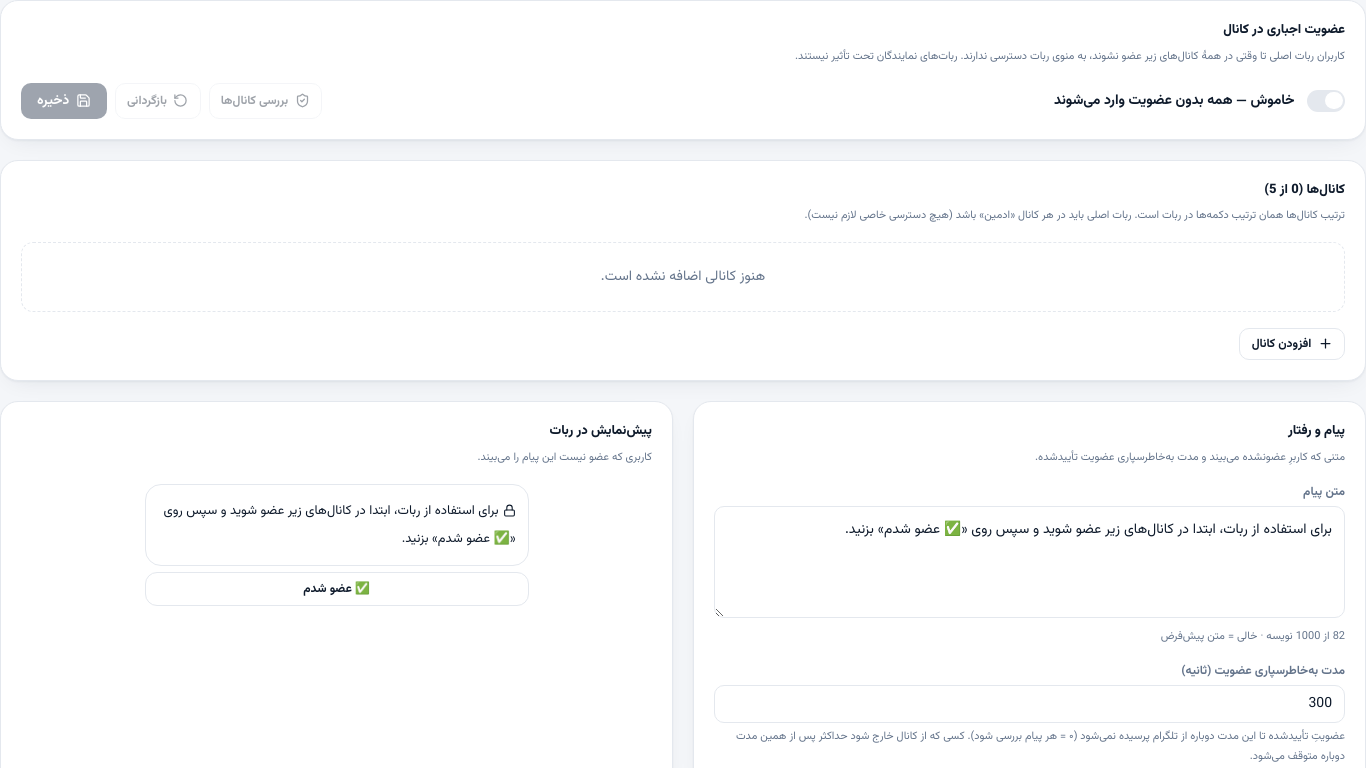
admin channel join (عضویت اجباری کانال) › adds a channel, previews the join screen, checks with Telegram and saves
The image size is (1366, 768).
Expected: the heading "عضویت اجباری در کانال" is shown, [1223,20,1345,40]
Expected: the button "ذخیره" is disabled, [21,82,107,119]
Click the switch named "فعال‌سازی عضویت اجباری" at (1326, 101), box [1307,90,1345,112]
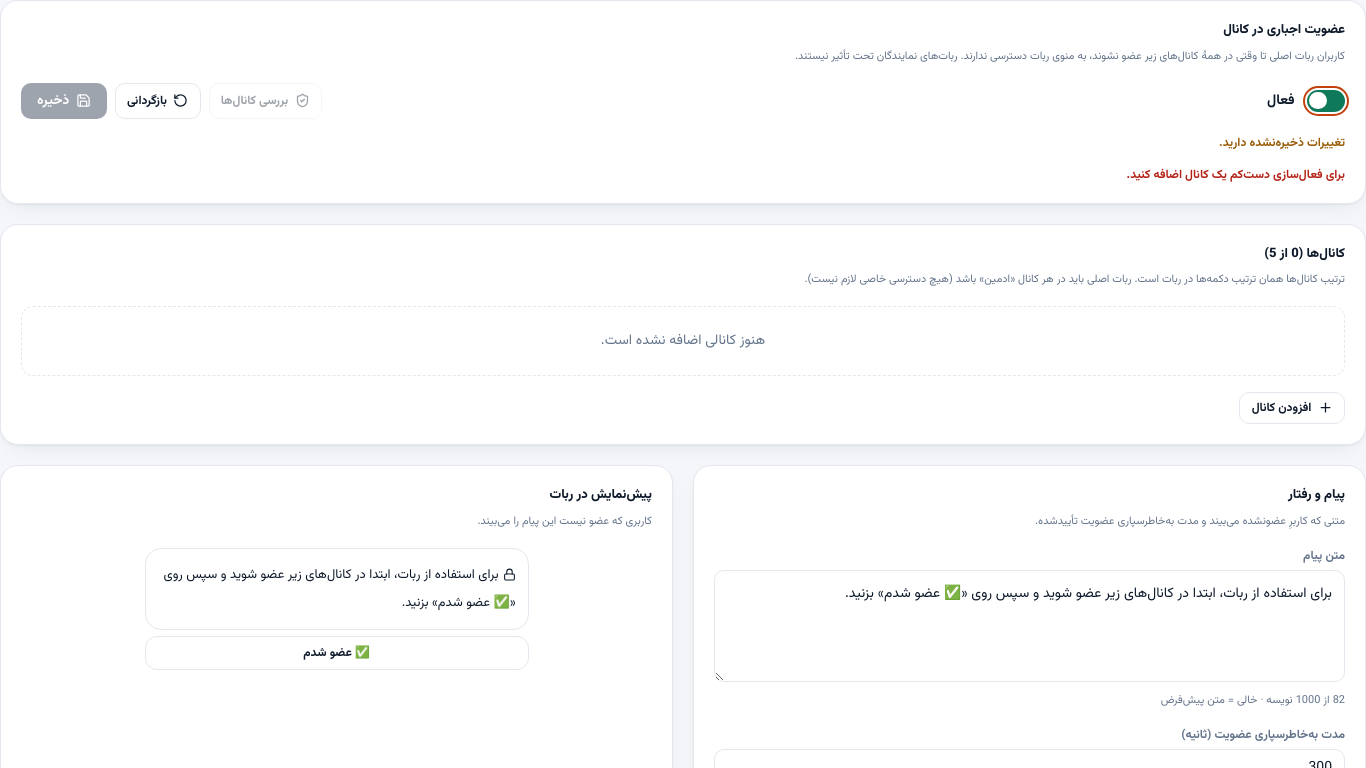
Expected: the button "ذخیره" is disabled, [21,82,107,119]
Expected: the text "برای فعال‌سازی دست‌کم یک کانال اضافه کنید." is shown, [1127,166,1345,184]
Click the button "افزودن کانال" at (1292, 408), box [1240,392,1345,424]
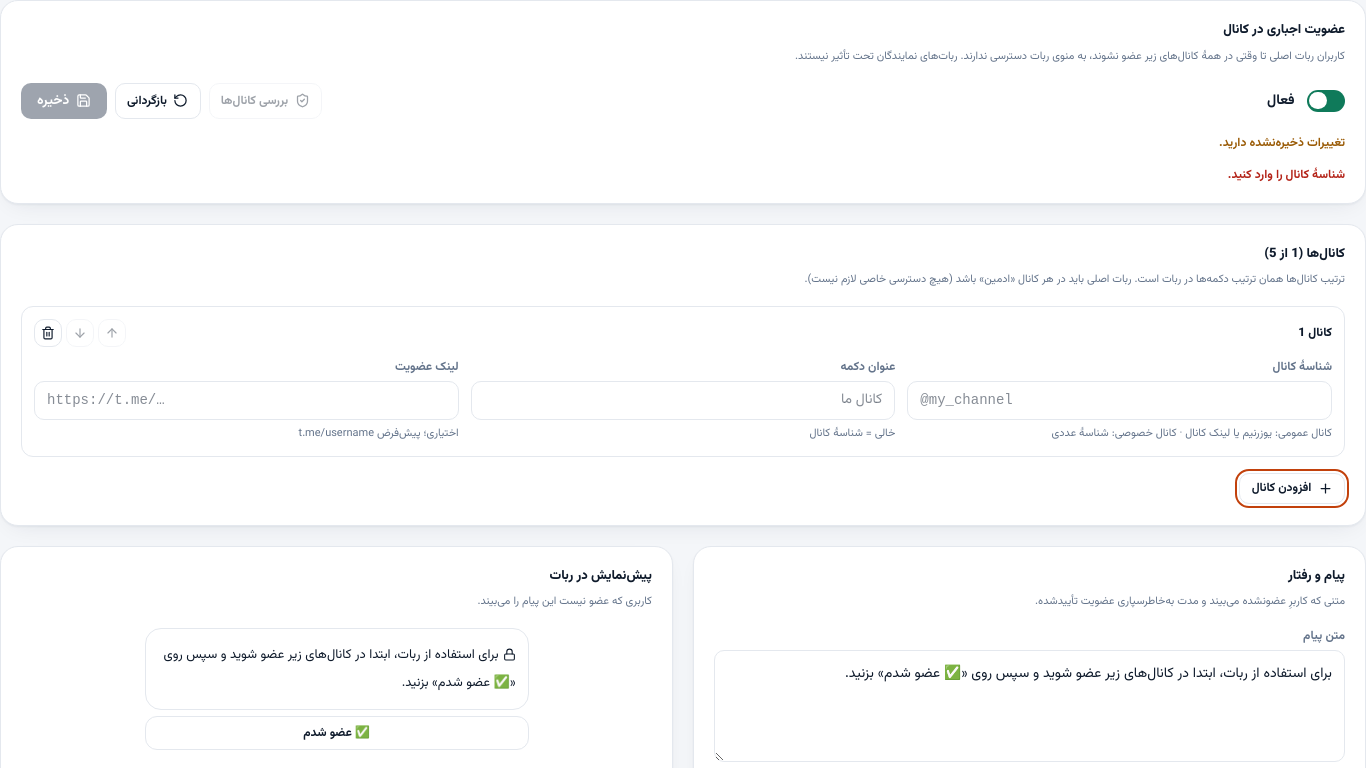
Type "melorin_news" into the field with placeholder "@my_channel" at (1120, 401), box [907,381,1332,420]
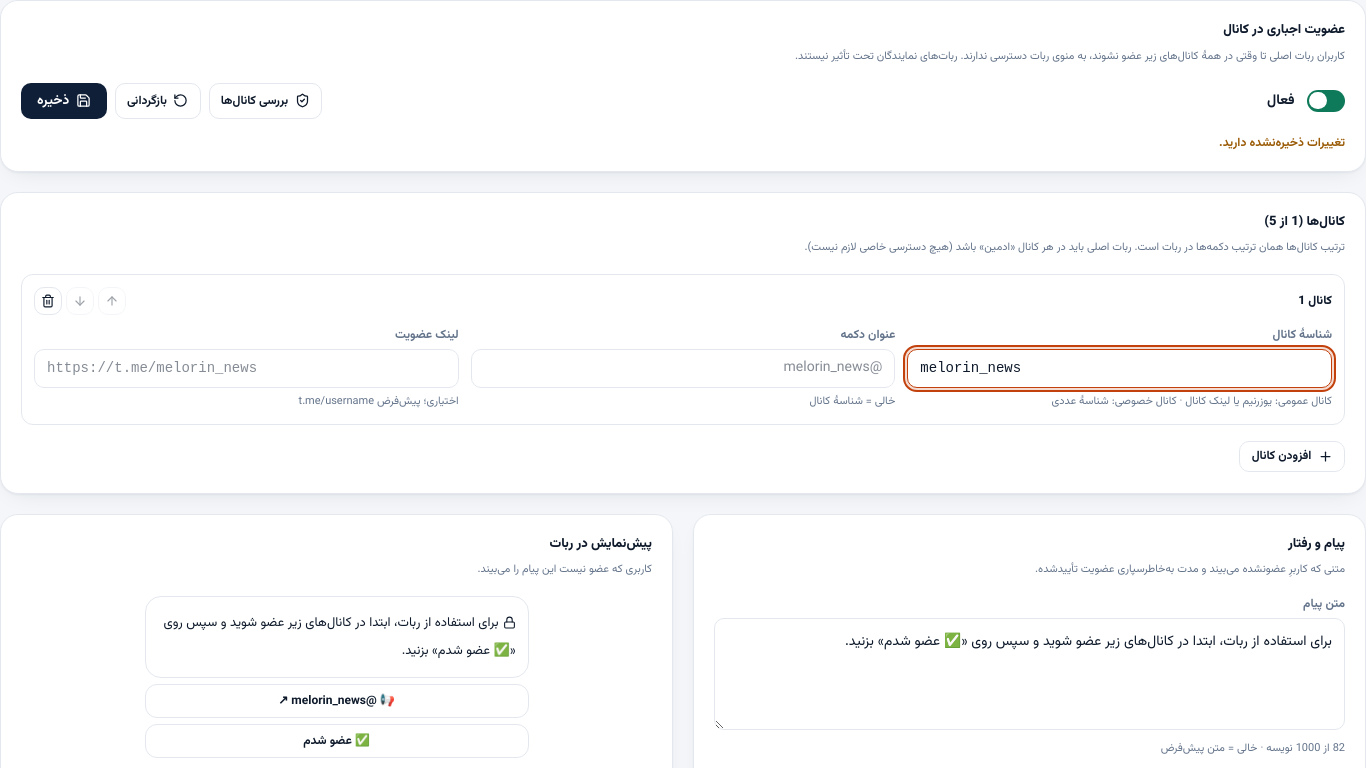
Type "اخبار ملورین" into the field labelled "عنوان دکمه خالی = شناسهٔ کانال" at (683, 369), box [471,349,895,388]
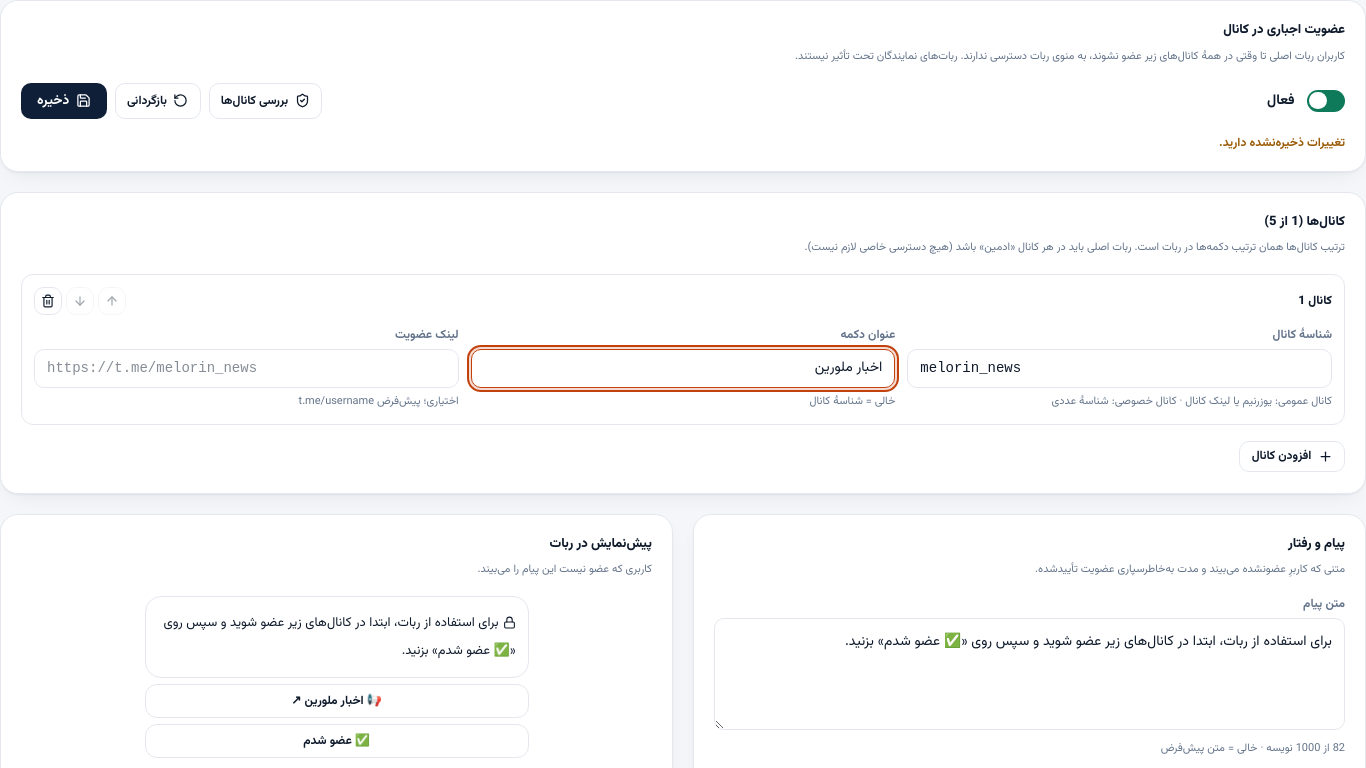
Expected: the button "ذخیره" is enabled
Expected: the element named "پیش‌نمایش پیام ربات" shows "📢 اخبار ملورین", [144,596,528,758]
Click the button "ذخیره" at (64, 101), box [21,82,107,119]
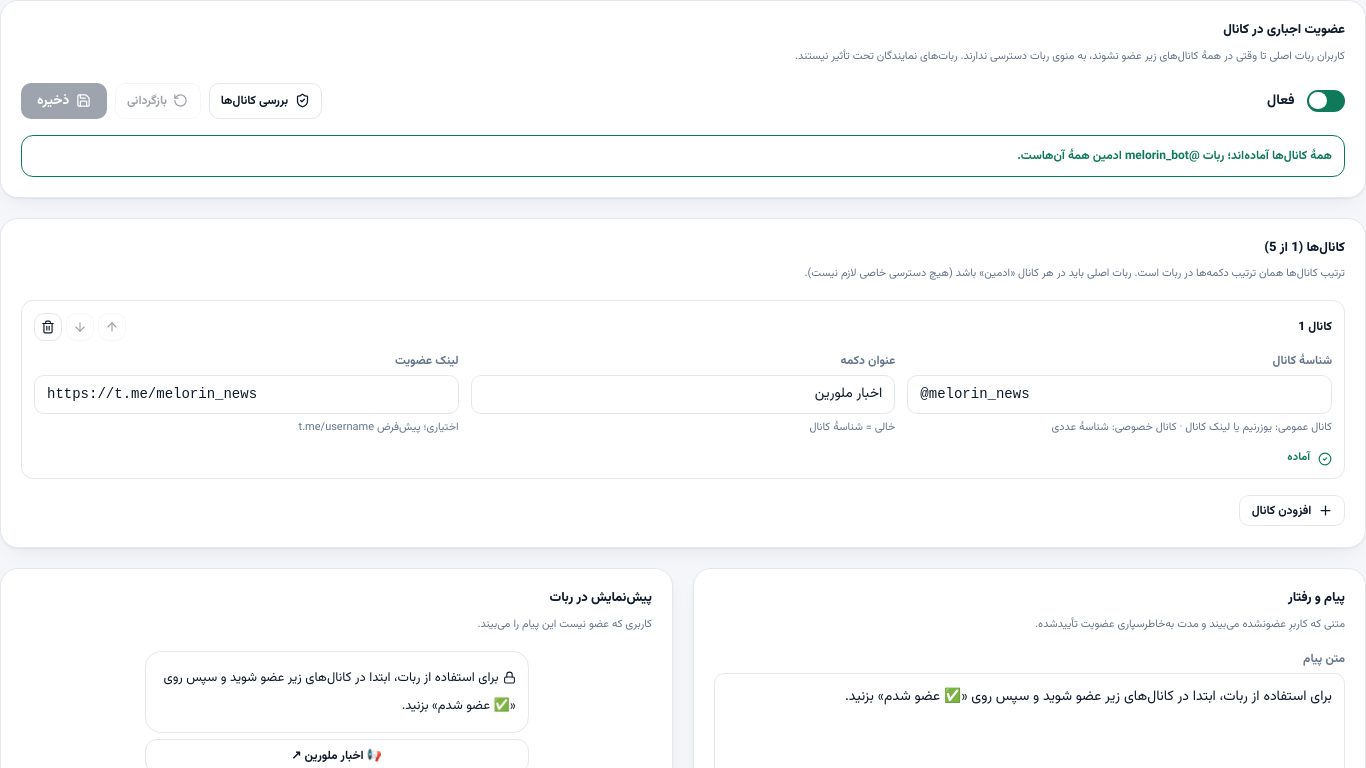
Expected: the text "همهٔ کانال‌ها آماده‌اند؛ ربات @melorin_bot ادمین همهٔ آن‌هاست." is shown, [21,135,1345,177]
